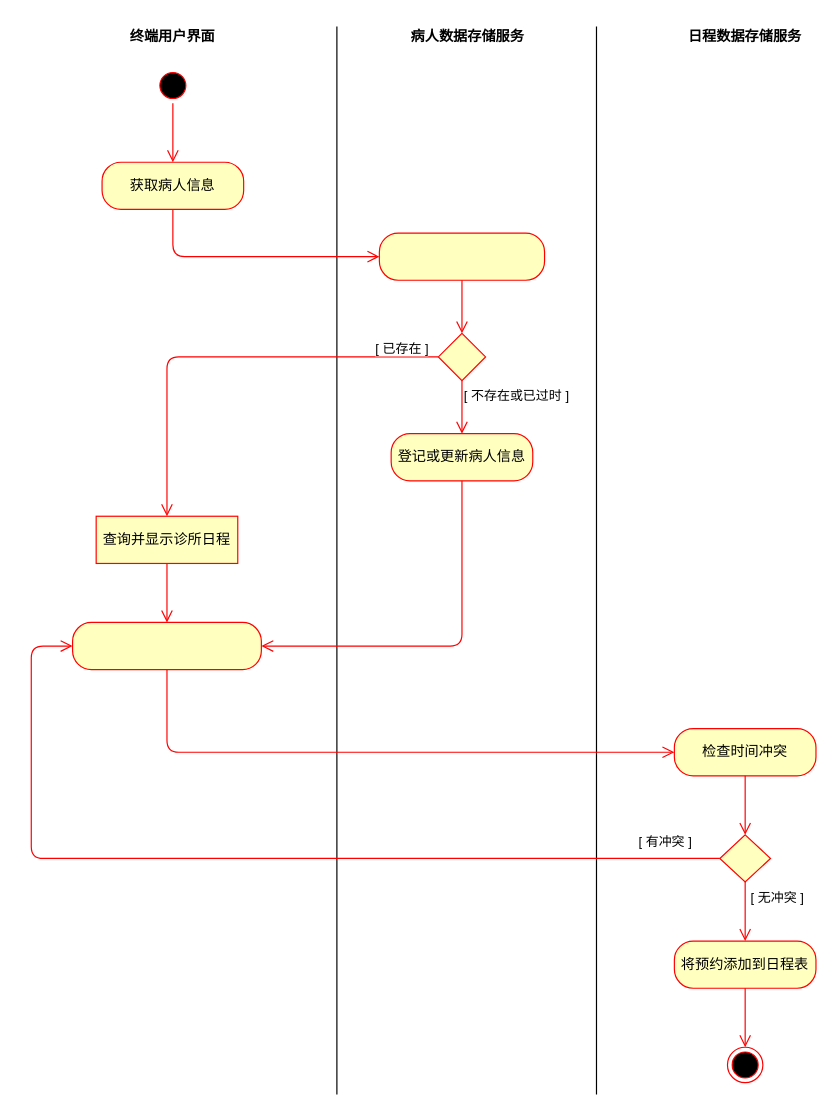
Some shapes in this 837 by 1115 pixel diagram are drawn without their labels. The shapes that lost their labels are listed below. From the top down, each one's centre as x and y in pixels, then its label:
At (x=461, y=256): "查询病人信息是否存在".
At (x=166, y=645): "设置新建的预约的日期和时间".
